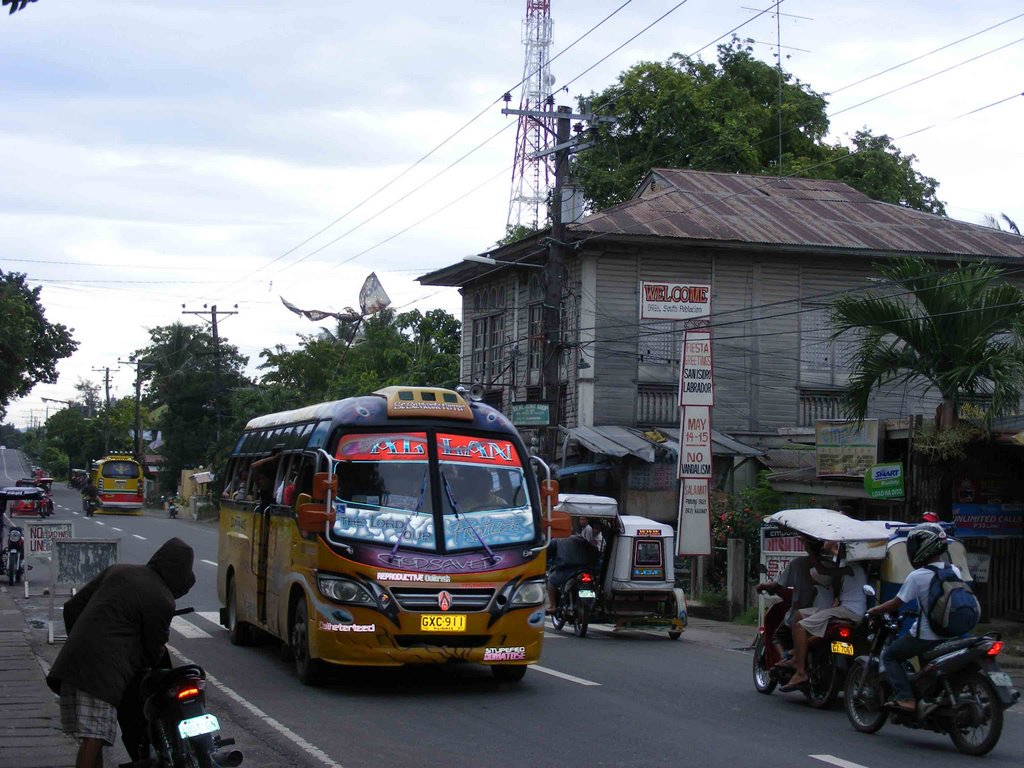bike: (104, 614, 251, 768), (858, 614, 1008, 749)
bus: (215, 389, 545, 682), (92, 457, 149, 509)
person: (61, 539, 191, 768), (869, 522, 974, 711)
pole: (542, 103, 579, 445)
